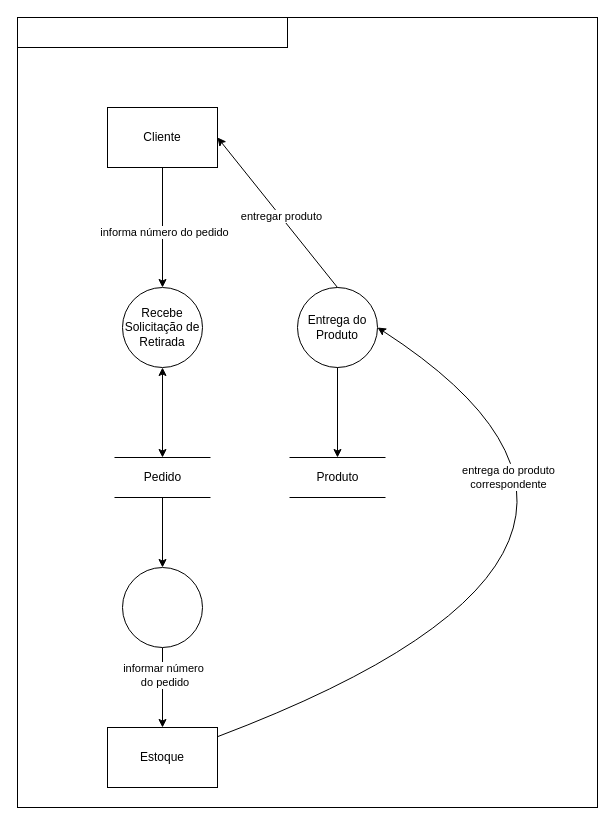
The diagram is 615 pixels wide and 825 high, and some of its shapes have lost their labels. The centre of each missing label's shape, as x and y in pixels:
"DFD - Tratar Retirada de Produto Sob Medida" belongs at (152,32).
"Falar com Estoque" belongs at (162,607).
